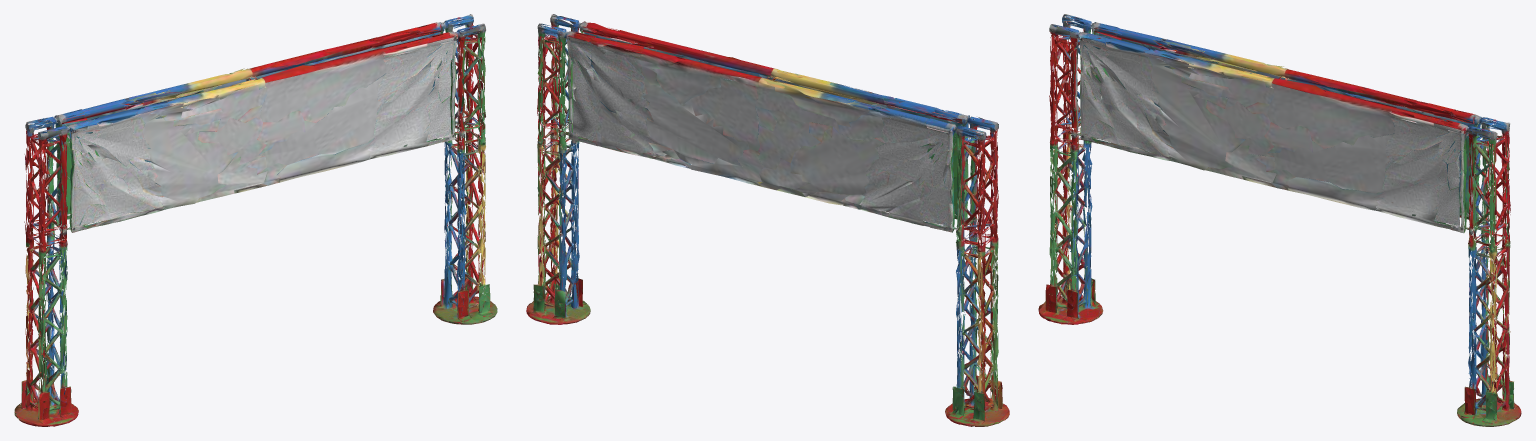
The model's file is banderole-depart.glb.
The picture shows the model from 3 angles, left to right: view 1: azimuth 30°, elevation 25°; view 2: azimuth 150°, elevation 25°; view 3: azimuth 330°, elevation 25°; orthographic projection.
Visible parts, largest first — view 1: Mesh_0; view 2: Mesh_0; view 3: Mesh_0.
Part boxes in pixels (x1=…): Mesh_0: x1=14, y1=14, x2=497, y2=426; Mesh_0: x1=526, y1=14, x2=1009, y2=426; Mesh_0: x1=1038, y1=14, x2=1521, y2=426.
Bounding box in the file's own units: 1.9 × 1.11 × 0.224.
Materials: 1 (1 with a texture image).
